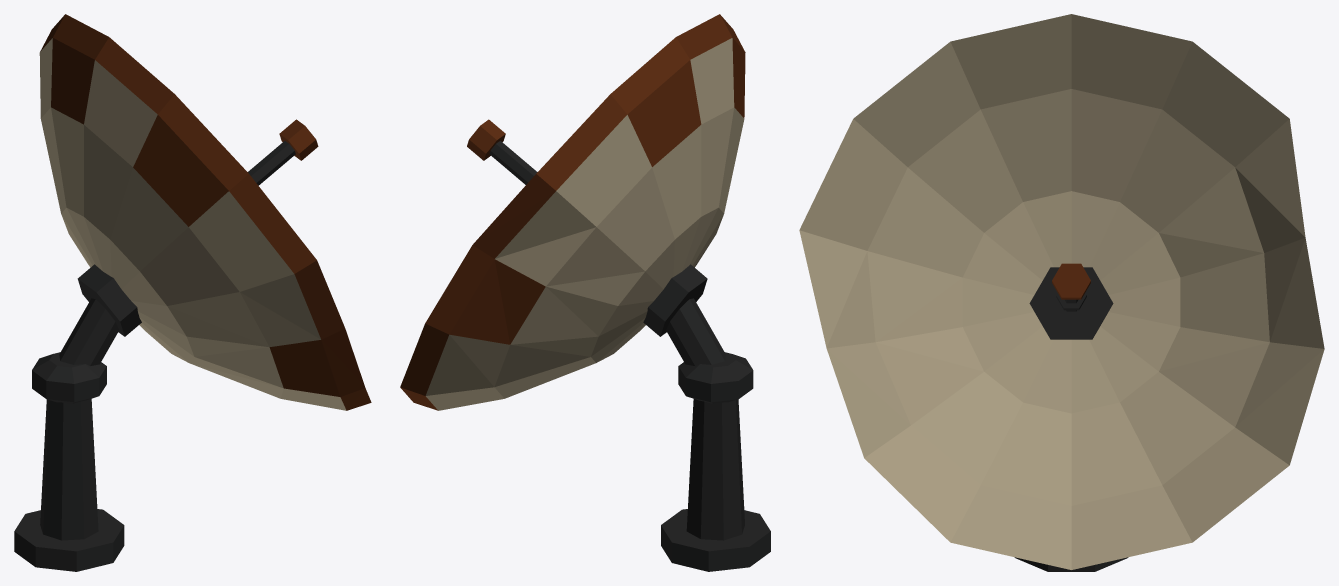
File: SM_DroneAntenna.fbx
3 renders of one model, left to right at view 1: azimuth 30°, elevation 25°; view 2: azimuth 150°, elevation 25°; view 3: azimuth 270°, elevation 25°, orthographic. The views are drawn at different scales.
Visible parts, largest first — view 1: SM_DroneAntenna; view 2: SM_DroneAntenna; view 3: SM_DroneAntenna.
Part boxes in pixels (x1,y1,x2,y2): SM_DroneAntenna: [14, 14, 371, 571]; SM_DroneAntenna: [400, 14, 770, 571]; SM_DroneAntenna: [799, 14, 1324, 571].
Bounding box in the file's own units: 13.86 × 21.96 × 18.82.
